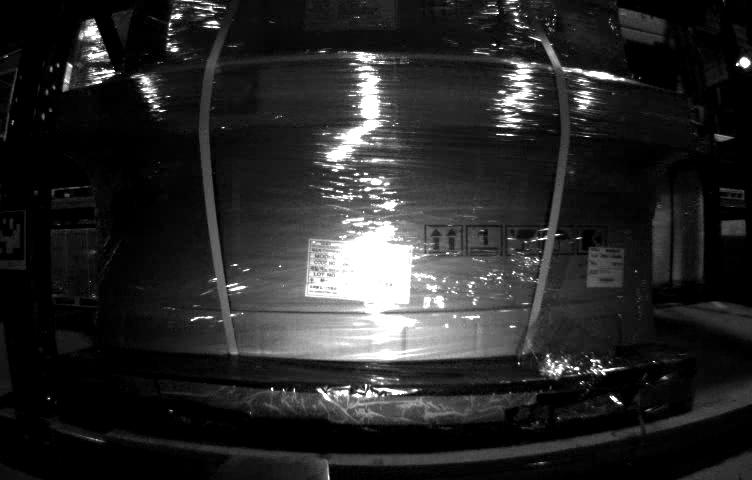True Barcode: (588, 246, 626, 290)
